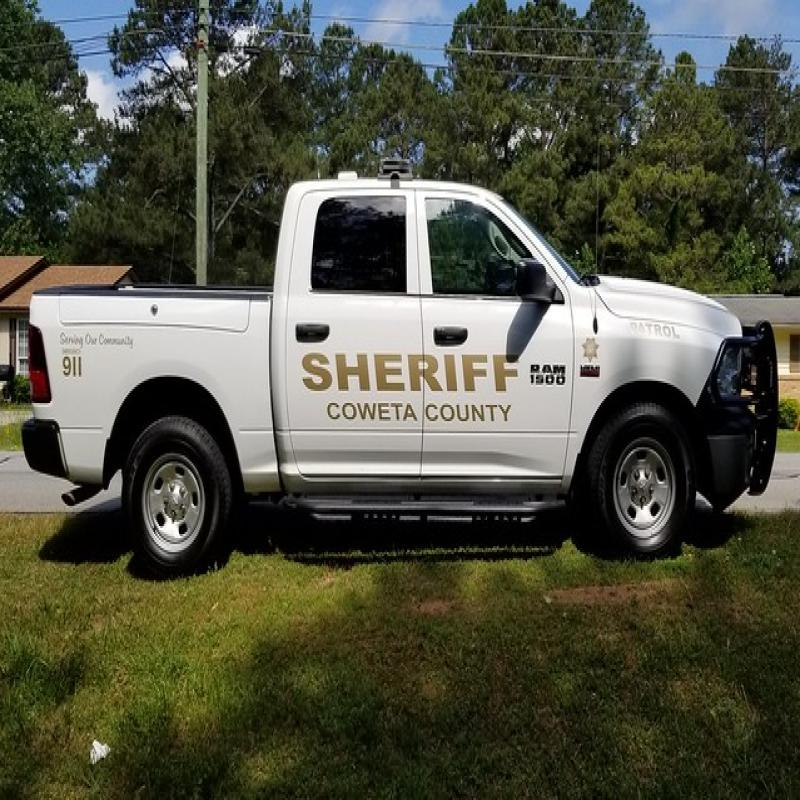AmbulanceSiren: (368, 118, 430, 200)
